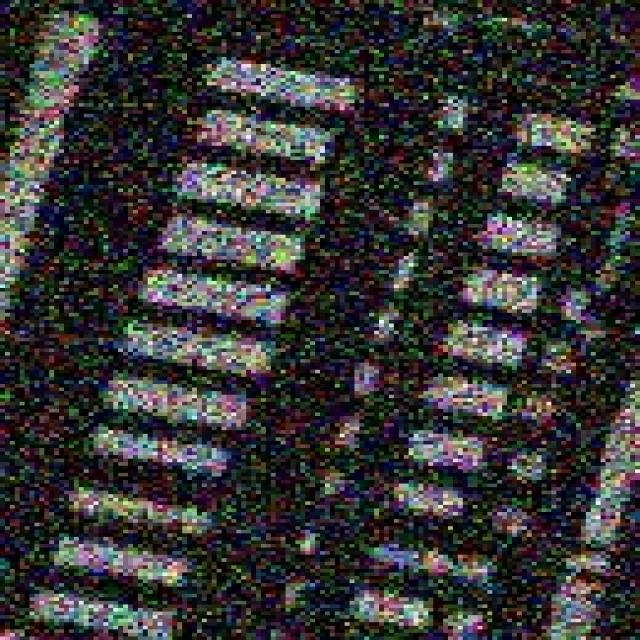igps: (0, 361, 613, 584), (0, 258, 640, 468), (0, 302, 615, 520), (19, 158, 640, 363), (0, 265, 635, 465), (39, 96, 640, 302), (0, 213, 640, 398), (0, 437, 575, 640), (60, 0, 640, 195), (62, 48, 640, 238), (0, 468, 571, 640), (0, 540, 340, 640)
